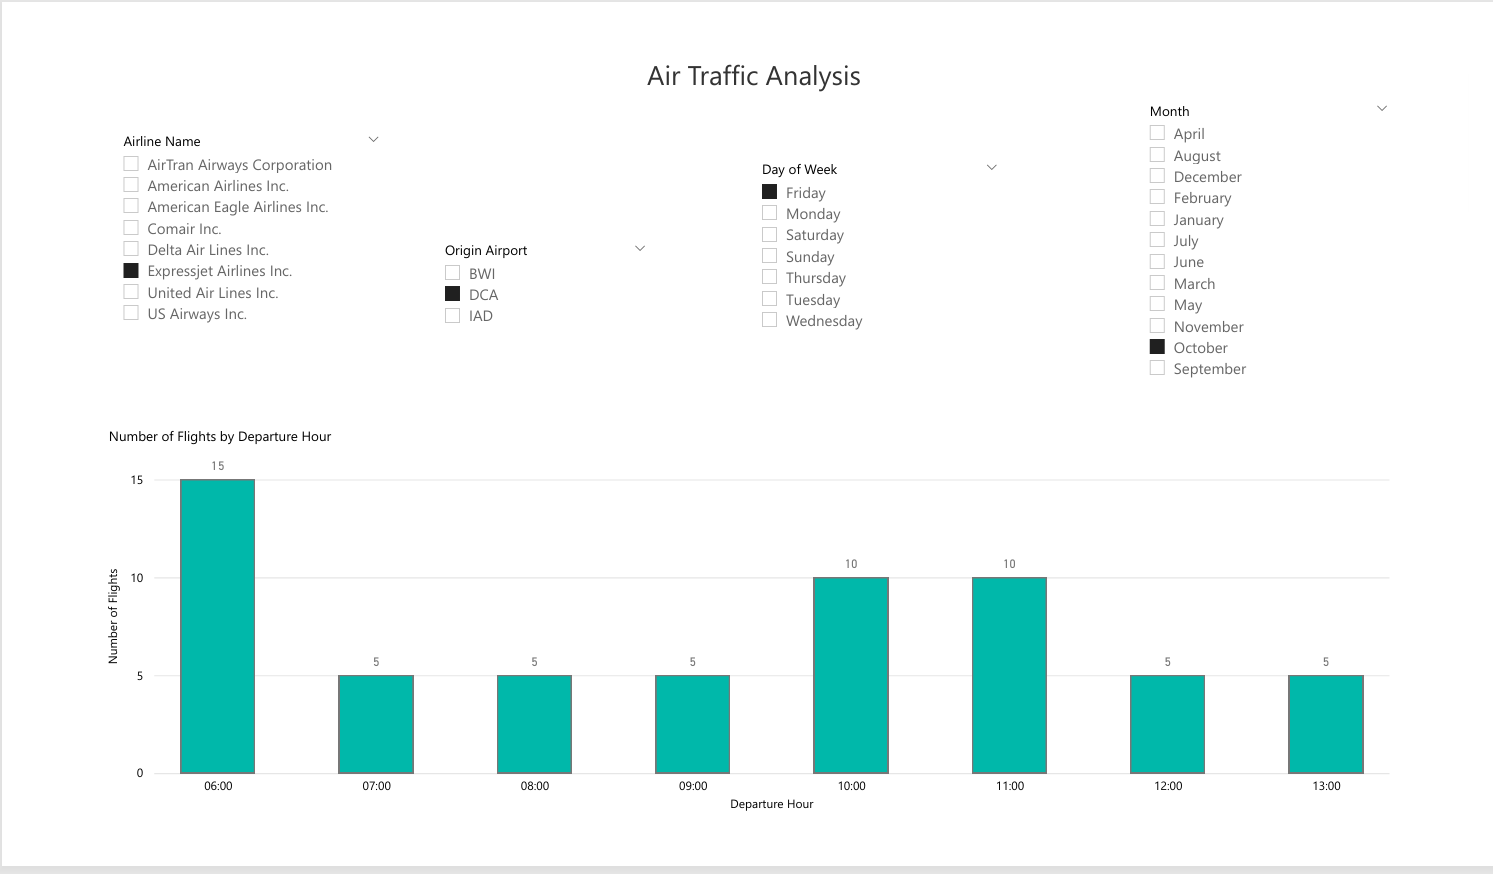

Layout of this report page (visuals, bound fields, positions):
{"tool":"powerbi","page":{"name":"Air Traffic Analysis","canvas":[1280,720],"ordinal":1},"visuals":[{"type":"textbox","box":[9.6,0,1270.7,75.5],"z":0},{"type":"slicer","fields":{"Values":["Sheet1.Day of Week"]},"box":[639.5,111.1,234.6,186.6],"z":1000},{"type":"slicer","fields":{"Values":["Sheet1.Month"]},"box":[983.9,59,237.4,264.8],"z":2000},{"type":"slicer","fields":{"Values":["Sheet1.Origin Airport"]},"box":[356.8,182.5,204.5,100.2],"z":3000},{"type":"slicer","fields":{"Values":["Sheet1.Airline Name"]},"box":[71.4,86.4,252.5,237.4],"z":4000},{"type":"columnChart","fields":{"Category":["Sheet1.Departure Hour"],"Y":["Sum(Sheet1.Number of Flights)"]},"box":[71.4,349.9,1138.9,347.2],"z":5000}]}

Visuals, with their boxes on the page's 1280x720 design canvas (x1, y1, x2, y2). These are canvas units, not pixel positions in the 1493x874 screenshot, which may show the page scaled, cropped or inside an application window:
textbox: x1=10, y1=0, x2=1280, y2=76
slicer - Sheet1.Day of Week: x1=640, y1=111, x2=874, y2=298
slicer - Sheet1.Month: x1=984, y1=59, x2=1221, y2=324
slicer - Sheet1.Origin Airport: x1=357, y1=182, x2=561, y2=283
slicer - Sheet1.Airline Name: x1=71, y1=86, x2=324, y2=324
columnChart - Sheet1.Departure Hour x Sum(Sheet1.Number of Flights): x1=71, y1=350, x2=1210, y2=697
